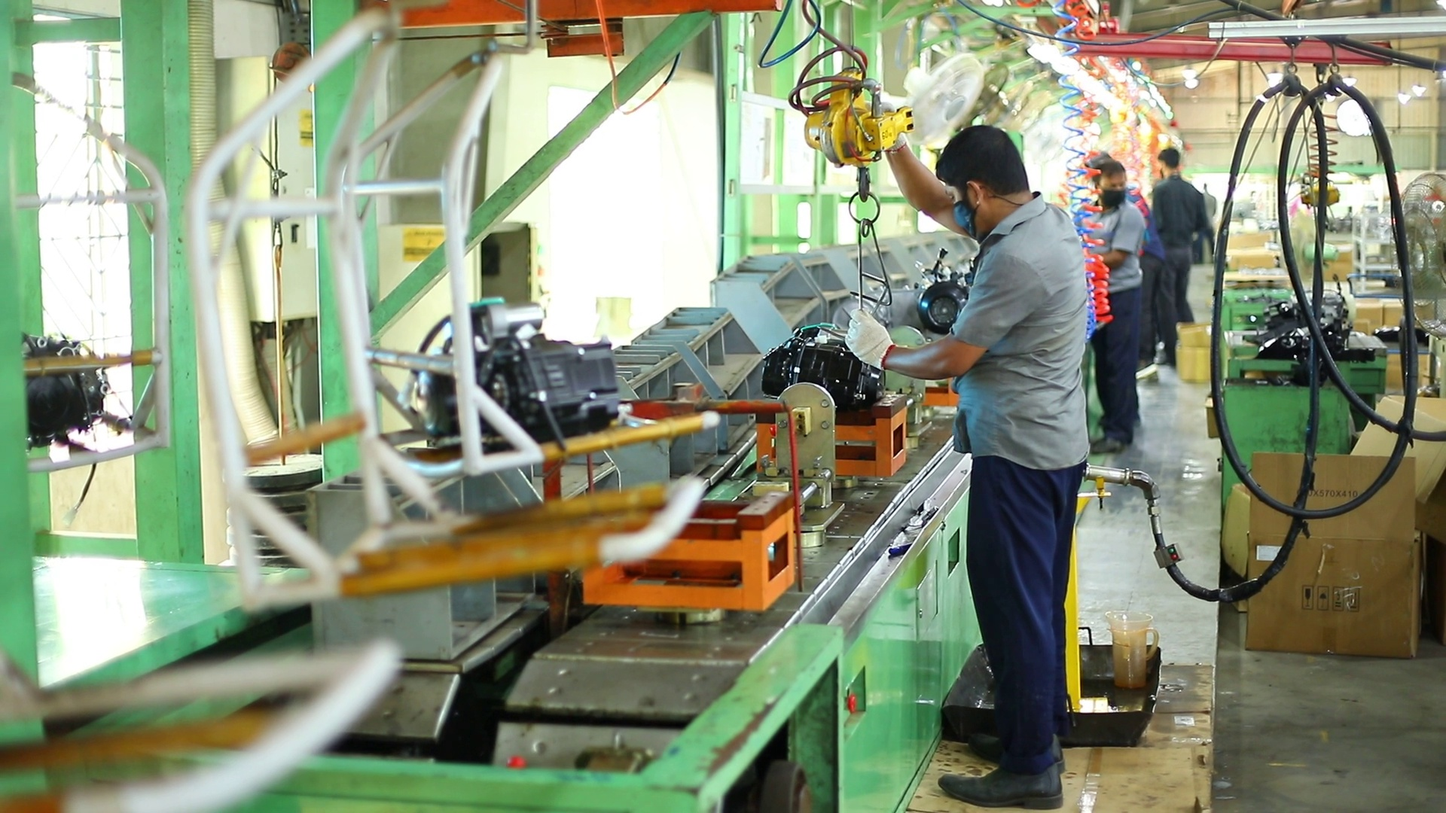mask: (952, 200, 979, 239), (1099, 187, 1127, 210)
person: (842, 105, 1091, 811), (1072, 156, 1148, 455), (1149, 145, 1217, 367), (1130, 178, 1166, 372)
